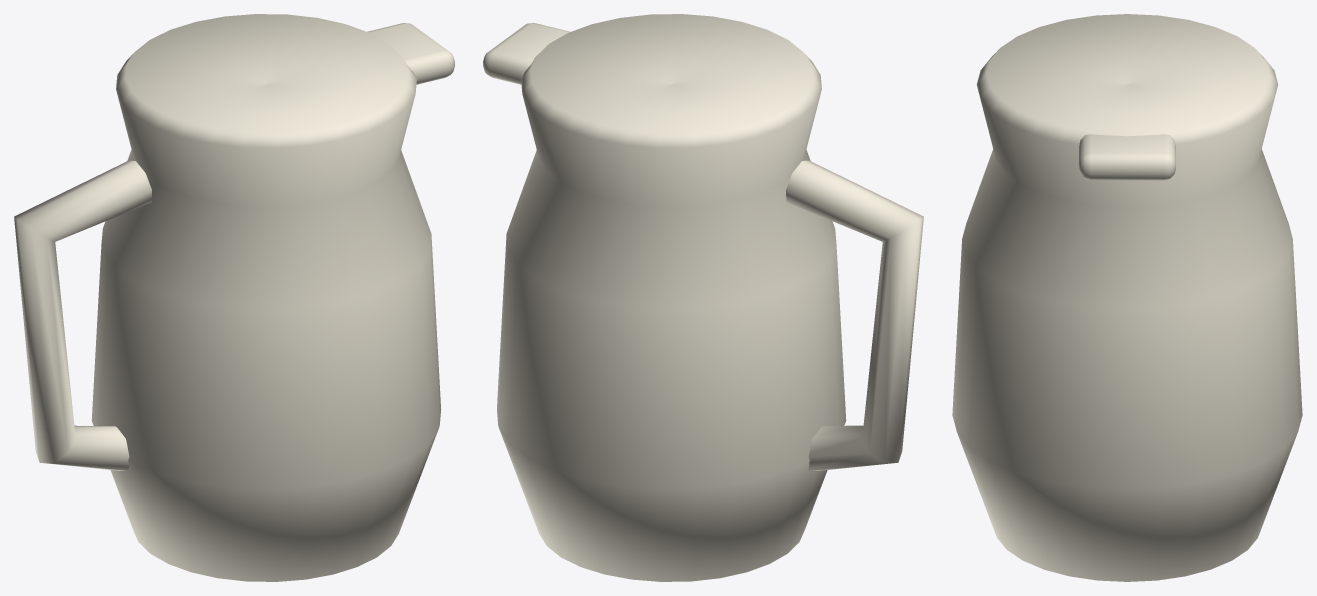
Rendered from jug_01.glb.
3 views of the same model, side by side, from view 1: azimuth 30°, elevation 25°; view 2: azimuth 150°, elevation 25°; view 3: azimuth 270°, elevation 25° (orthographic).
Visible parts, largest first — view 1: jug_01_body, jug_01_handle, jug_01_lip; view 2: jug_01_body, jug_01_handle, jug_01_lip; view 3: jug_01_body, jug_01_lip.
Boxes of the visible parts, bbox=[...] form: jug_01_body: bbox=[91, 14, 440, 581]; jug_01_handle: bbox=[14, 160, 151, 470]; jug_01_lip: bbox=[367, 23, 454, 84]; jug_01_body: bbox=[497, 14, 846, 581]; jug_01_handle: bbox=[786, 160, 923, 470]; jug_01_lip: bbox=[483, 23, 570, 84]; jug_01_body: bbox=[952, 14, 1302, 581]; jug_01_lip: bbox=[1079, 134, 1175, 180].
Bounding box in the file's own units: 0.198 × 0.205 × 0.144.
